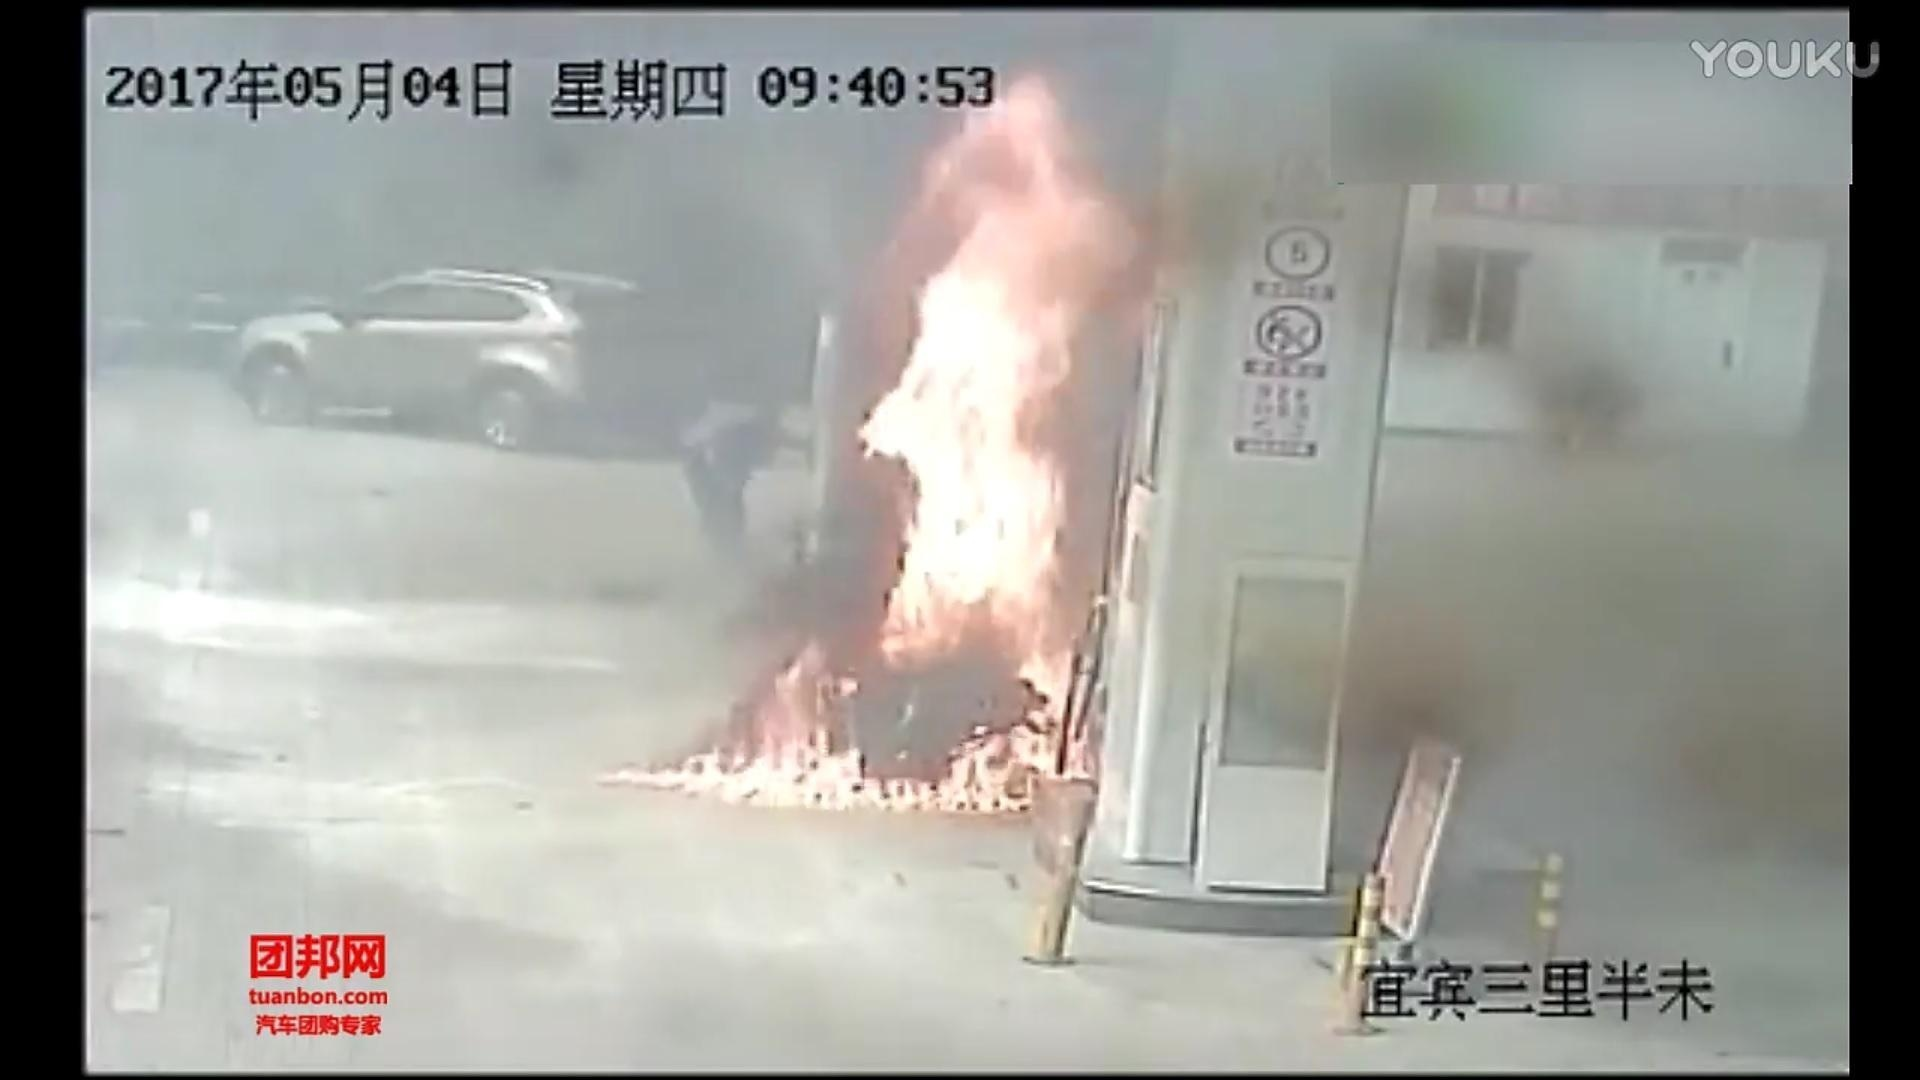fire: (856, 99, 1112, 724)
